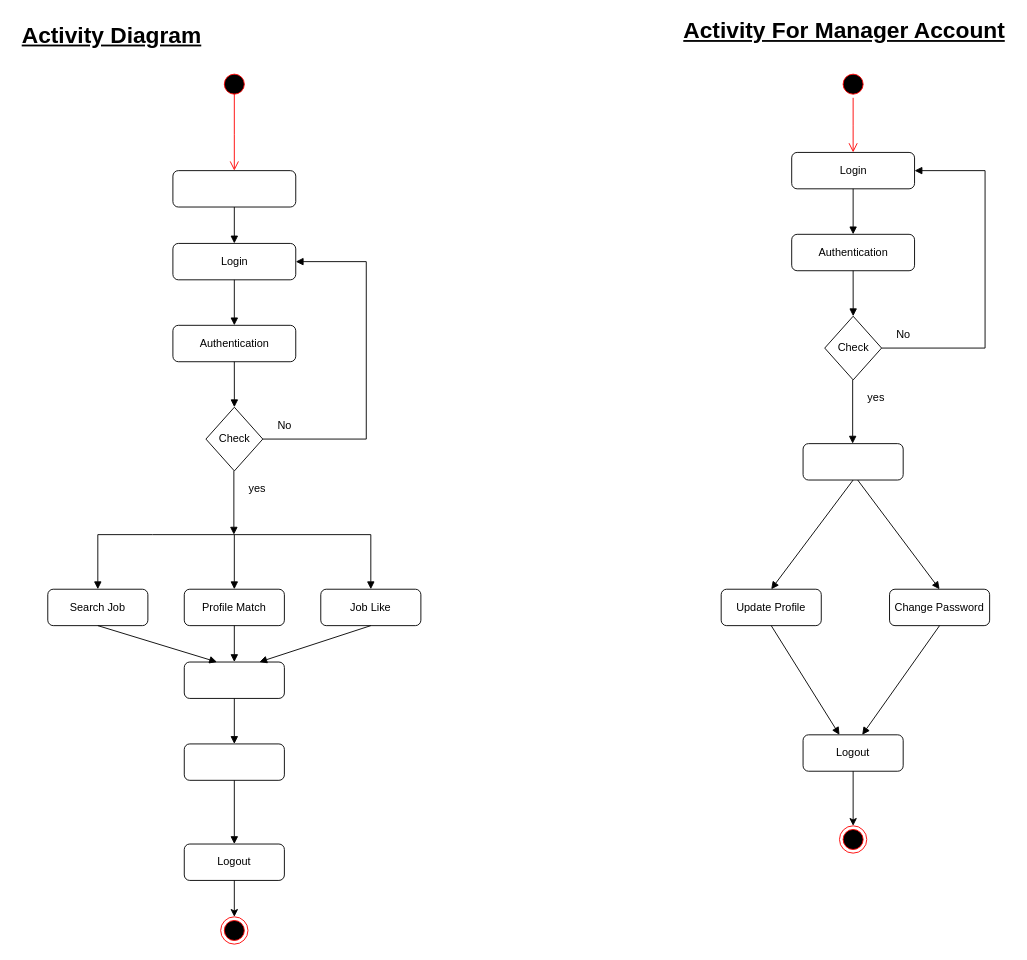
The diagram is 1027 pixels wide and 960 high, and some of its shapes have lost their labels. The shapes that lost their labels are listed below. From the top down, each one's centre as x and y in pixels, then its label:
At (234,188): "Registration".
At (852,461): "Manage Account".
At (233,679): "Apply Job".
At (233,761): "Manage Applied Job".
